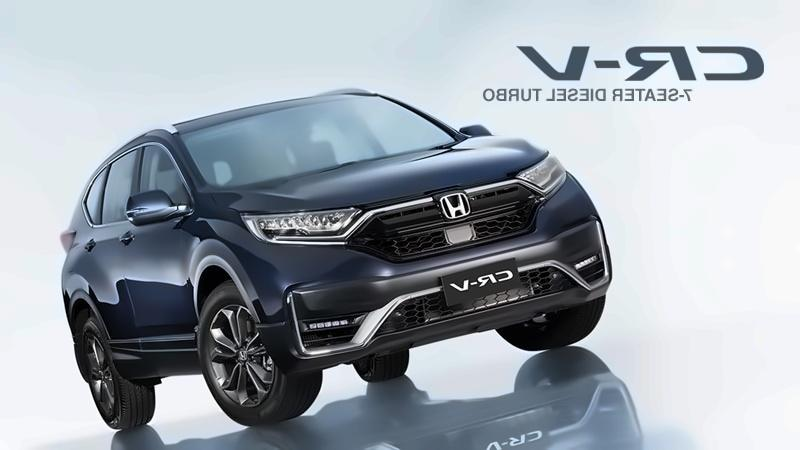Car hood: (193, 132, 555, 214)
Driver-s door - -F-R-: (113, 95, 213, 385)
Fender - -F-R-: (175, 194, 267, 376)
Front bumper: (248, 169, 617, 380)
Headlight - -L-: (513, 149, 568, 198)
Headlight - -R-: (239, 209, 367, 247)
Passenger-s door - -R-R-: (72, 107, 156, 410)
Rear light - -R-: (61, 227, 76, 258)
Side bumper - -R-: (100, 327, 221, 405)
Side mirror - -R-: (124, 189, 194, 226)
